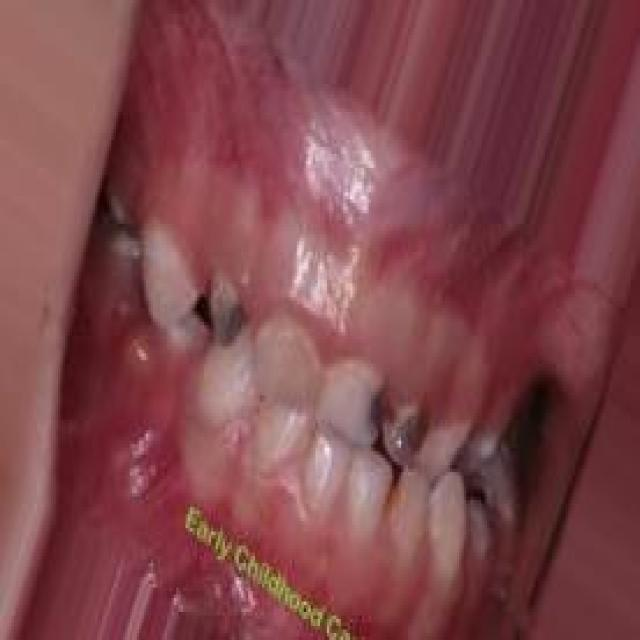caries: (199, 270, 250, 354), (343, 362, 385, 446), (382, 397, 425, 473)
